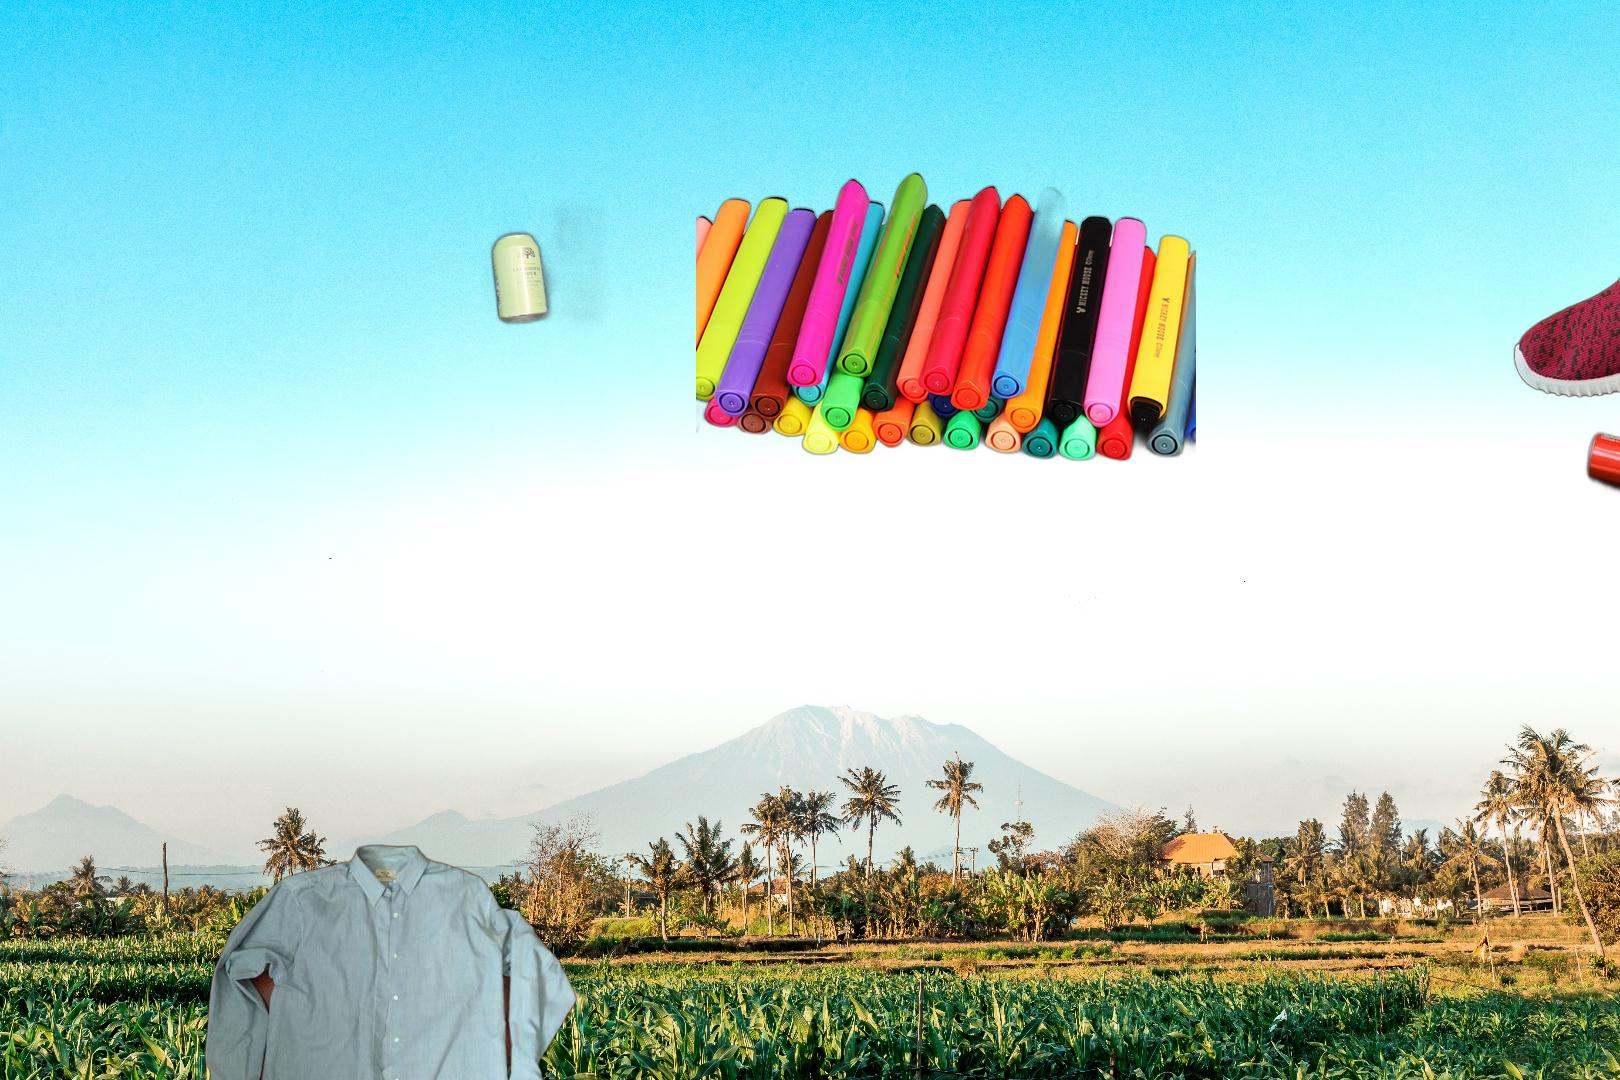clothes: (201, 843, 580, 1080)
metal-cans: (1415, 428, 1620, 918), (479, 196, 616, 337)
penholder: (695, 168, 1196, 465)
plastic-bag: (269, 862, 495, 1028)
shoes: (1512, 206, 1620, 425)
